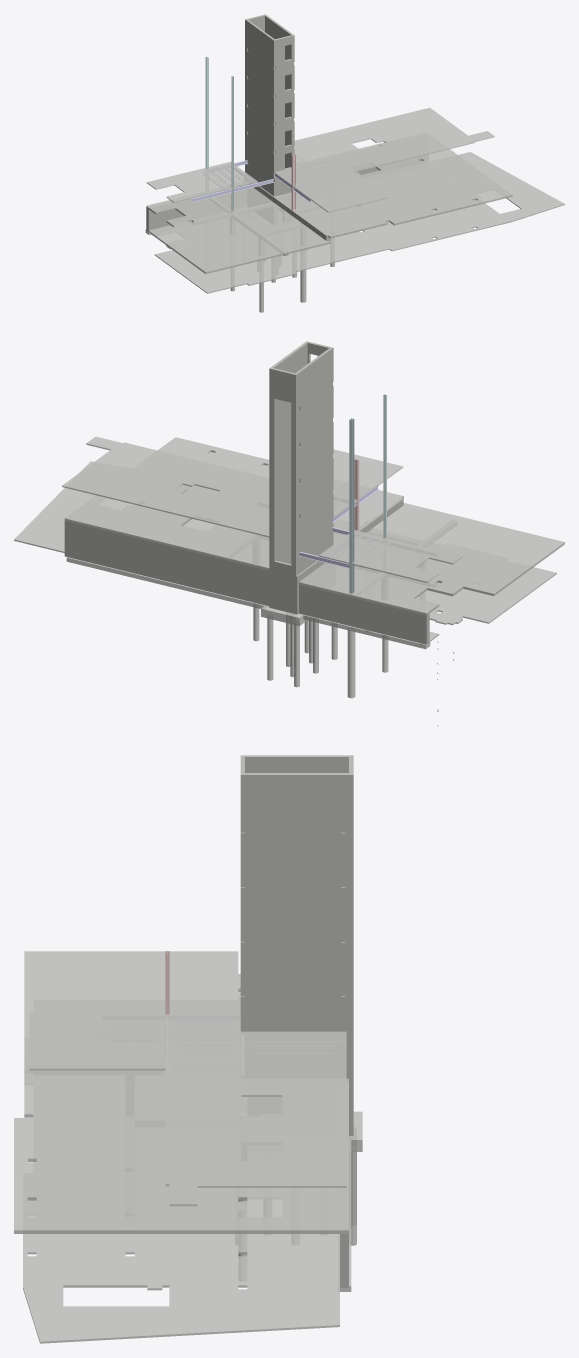
Rendered from ISSUE-003-context.glb.
3 renders of one model, top to bottom at view 1: azimuth 30°, elevation 25°; view 2: azimuth 150°, elevation 25°; view 3: azimuth 270°, elevation 25°, orthographic. The views are drawn at different scales.
Visible parts, largest first — view 1: 4738, 4006 (×2), 3831, 3844, 3054, 3060, 3420, 3052, 3934, 3053, 3290, 3297; view 2: 4006 (×2), 3831, 3844, 3928, 3054, 4738, 3934, 3053, 3420, 3052, 3929, 3290 (+5 smaller); view 3: 4006 (×2), 3844, 4738, 3052, 3831, 3054, 3053.
Boxes of the visible parts, x1,y1,x2,y2 form: 4738: [148, 152, 564, 293]; 4006 (×2): [274, 107, 494, 212]; 3831: [146, 187, 330, 273]; 3844: [275, 142, 512, 238]; 3054: [246, 20, 274, 195]; 3060: [274, 35, 294, 196]; 3420: [147, 161, 257, 201]; 3052: [265, 15, 294, 168]; 3934: [146, 207, 184, 231]; 3053: [245, 14, 266, 172]; 3290: [205, 56, 208, 168]; 3297: [231, 76, 233, 211]; 4006 (×2): [62, 436, 403, 537]; 3831: [299, 503, 564, 615]; 3844: [64, 437, 403, 570]; 3928: [64, 520, 269, 605]; 3054: [295, 347, 333, 574]; 4738: [14, 461, 556, 641]; 3934: [299, 584, 429, 644]; 3053: [269, 367, 297, 575]; 3420: [319, 530, 461, 581]; 3052: [271, 341, 307, 561]; 3929: [66, 557, 265, 608]; 3290: [349, 418, 354, 593]; 4006 (×2): [29, 1012, 346, 1206]; 3844: [14, 1060, 348, 1233]; 4738: [23, 1162, 339, 1343]; 3052: [240, 773, 348, 1078]; 3831: [24, 951, 240, 1059]; 3054: [241, 755, 348, 772]; 3053: [349, 755, 353, 1078].
Size of the model in its own units: 63.31 by 35 by 37.24.
